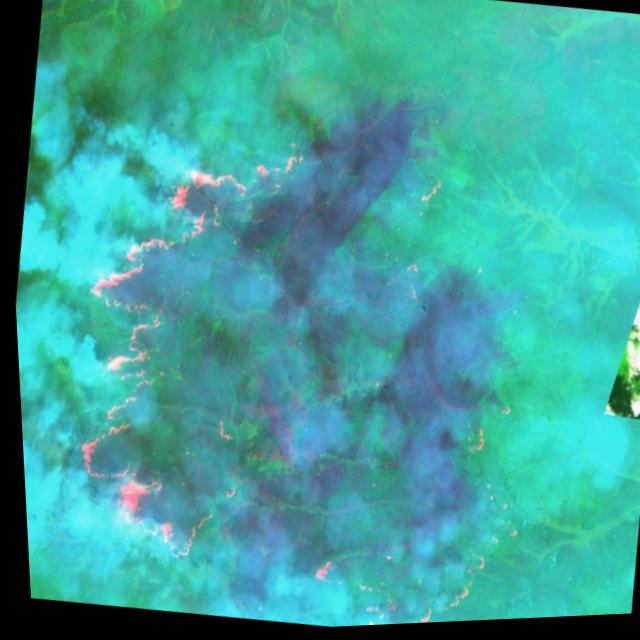fire: (35, 118, 298, 575), (287, 539, 475, 631)
